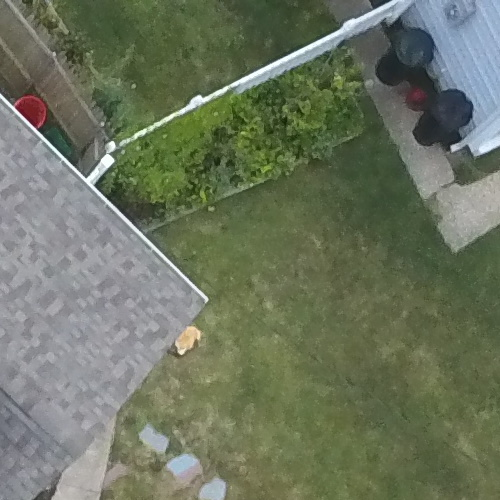trash bin: (405, 89, 477, 168), (376, 24, 444, 93)
